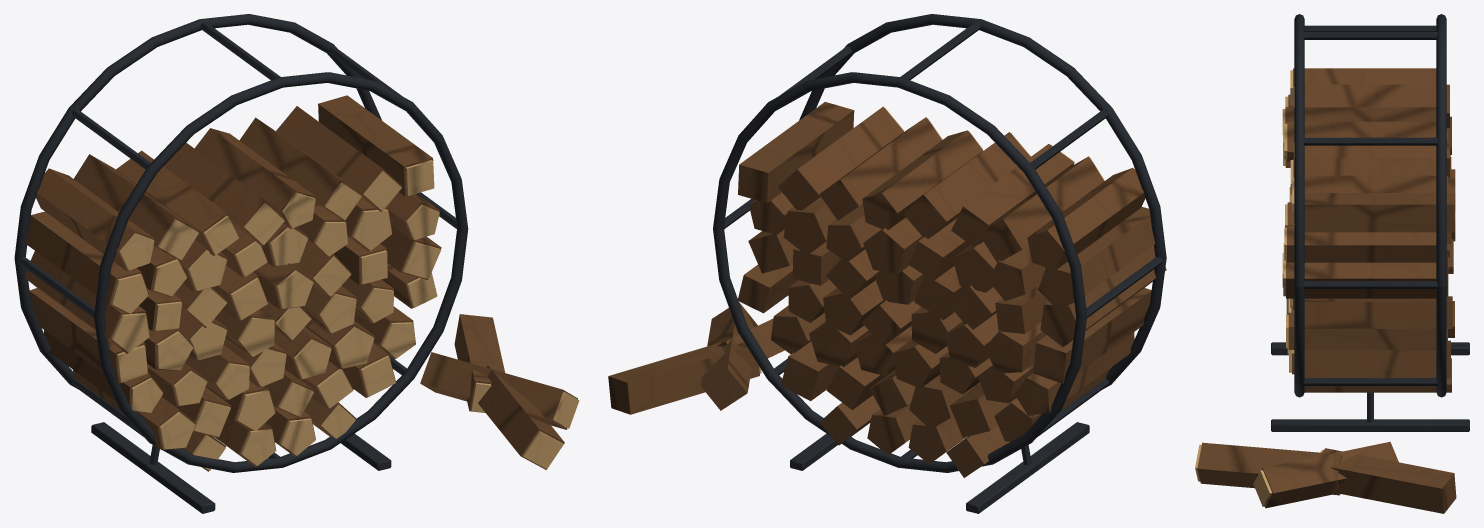
File: firewood_rack.glb
The picture shows the model from 3 angles, left to right: view 1: azimuth 30°, elevation 25°; view 2: azimuth 150°, elevation 25°; view 3: azimuth 270°, elevation 25°; orthographic projection. The views are drawn at different scales.
Parts seen in each view (by area): view 1: firewood_rack; view 2: firewood_rack; view 3: firewood_rack.
Boxes of the visible parts, x1,y1,x2,y2 form: firewood_rack: (14,14,579,513); firewood_rack: (608,14,1166,513); firewood_rack: (1195,14,1469,513).
Size of the model in its own units: 1.74 by 1.4 by 0.968.
Materials: 3 (3 with a texture image).
